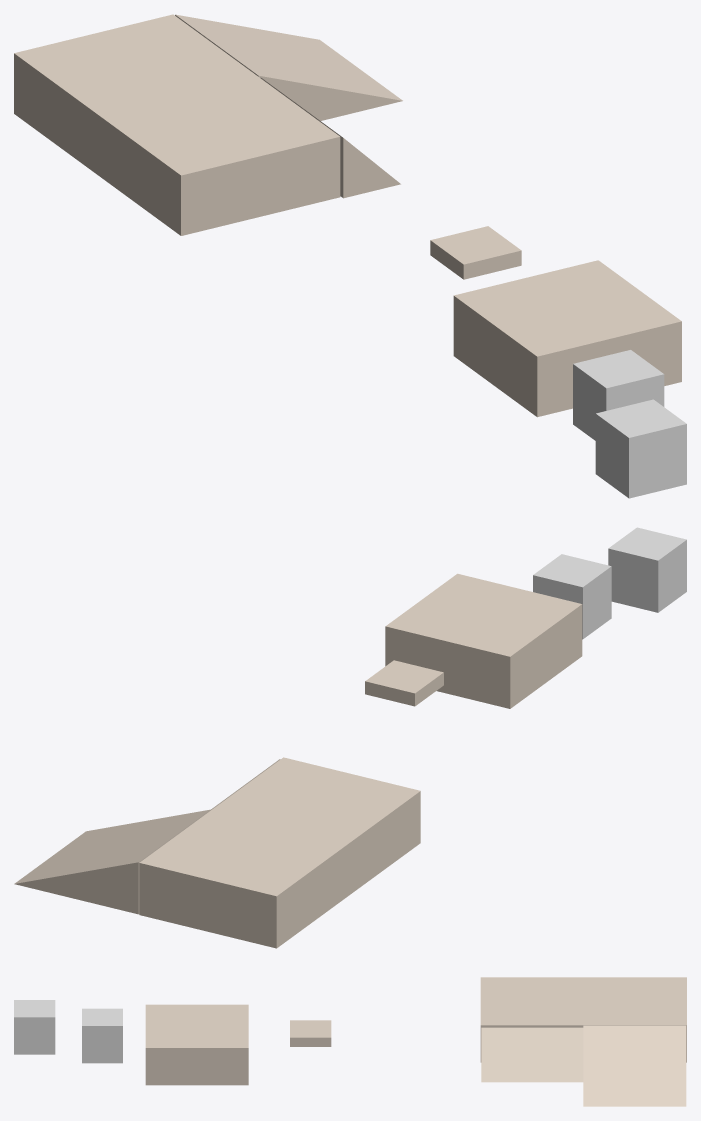
The model's file is bevy_sample2.glb.
The picture shows the model from 3 angles, top to bottom: view 1: azimuth 30°, elevation 25°; view 2: azimuth 150°, elevation 25°; view 3: azimuth 270°, elevation 25°; orthographic projection. The views are drawn at different scales.
Parts seen in each view (by area): view 1: Platform, Platform.001, Ramp.001, Cube.001, Cube, FloatingPlatform, Ramp; view 2: Platform, Platform.001, Ramp.001, Cube.001, Cube, FloatingPlatform; view 3: Platform, Ramp.001, Platform.001, Ramp, Cube.001, Cube, FloatingPlatform.
Boxes of the visible parts, box(x1,y1,x2,y2) form: Platform: box(14, 14, 340, 235); Platform.001: box(453, 260, 681, 417); Ramp.001: box(175, 14, 402, 120); Cube.001: box(595, 399, 686, 498); Cube: box(573, 350, 664, 440); FloatingPlatform: box(430, 226, 521, 279); Ramp: box(260, 77, 400, 198); Platform: box(139, 757, 420, 948); Platform.001: box(385, 573, 582, 708); Ramp.001: box(14, 809, 210, 914); Cube.001: box(608, 527, 686, 612); Cube: box(533, 554, 611, 639); FloatingPlatform: box(365, 660, 443, 706); Platform: box(480, 977, 686, 1062); Ramp.001: box(583, 1025, 686, 1106); Platform.001: box(145, 1004, 248, 1085); Ramp: box(481, 1027, 583, 1082); Cube.001: box(14, 1000, 55, 1054); Cube: box(82, 1008, 122, 1063); FloatingPlatform: box(290, 1020, 331, 1046).
Size of what is drawn, in the model's own units: 10.55 by 2.09 by 32.64.
